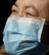with_mask: (2, 1, 49, 55)
